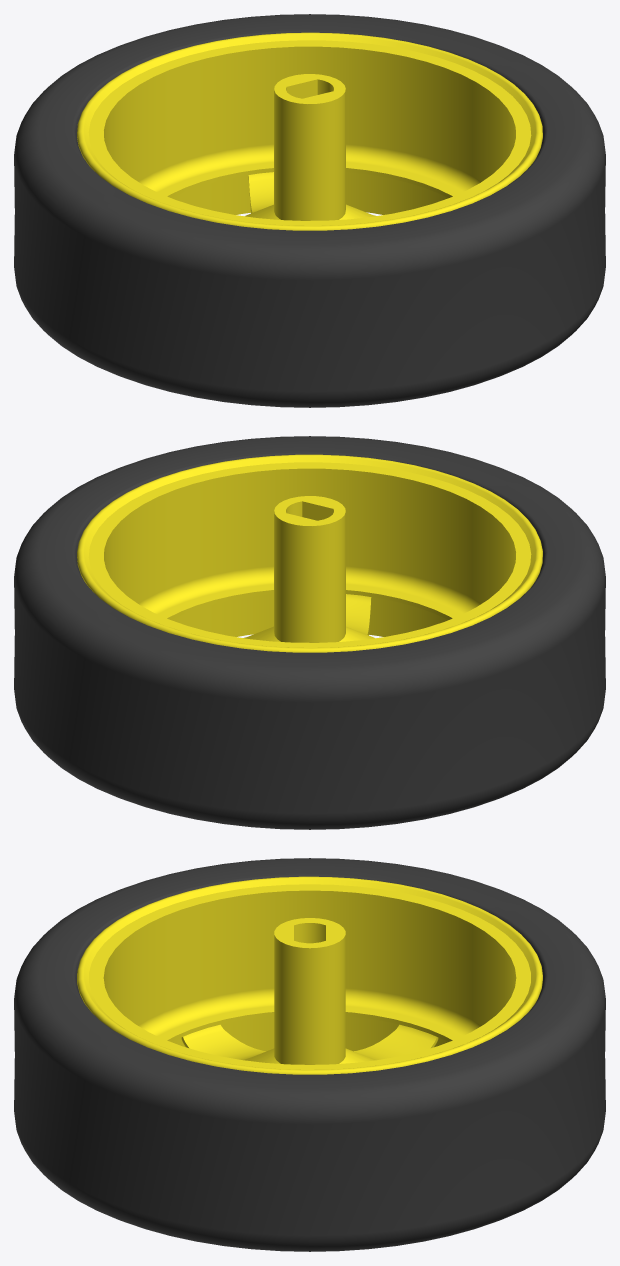
Rendered from wheel_right.obj.
3 views of the same model, one above another, from view 1: azimuth 30°, elevation 25°; view 2: azimuth 150°, elevation 25°; view 3: azimuth 270°, elevation 25° (orthographic).
Visible parts, largest first — view 1: wheel_right; view 2: wheel_right; view 3: wheel_right.
Boxes of the visible parts, box(x1,y1,x2,y2) form: wheel_right: box(14, 14, 605, 407); wheel_right: box(14, 436, 605, 829); wheel_right: box(14, 858, 605, 1251).
Size of the model in its own units: 0.066 by 0.025 by 0.066.
